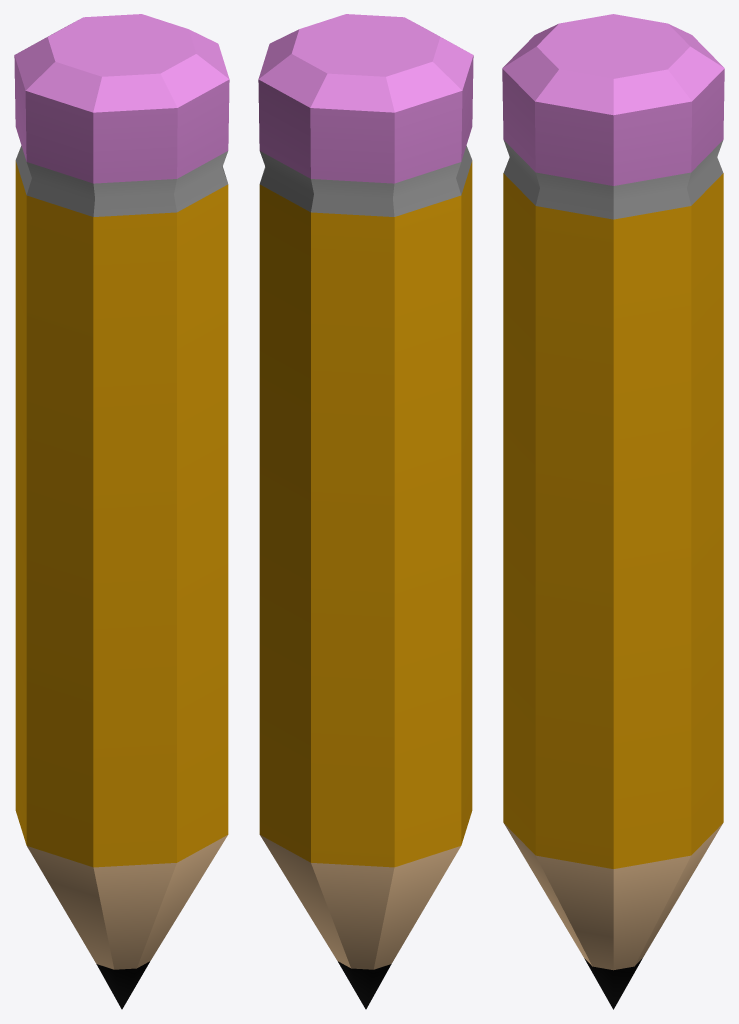
The model's file is lapiz.fbx.
3 renders of one model, left to right at view 1: azimuth 30°, elevation 25°; view 2: azimuth 150°, elevation 25°; view 3: azimuth 270°, elevation 25°, orthographic.
Visible parts, largest first — view 1: pCylinder1; view 2: pCylinder1; view 3: pCylinder1.
Boxes of the visible parts, <box> form: pCylinder1: <box>14,14,229,1009</box>; pCylinder1: <box>258,14,473,1009</box>; pCylinder1: <box>502,14,724,1009</box>.
Bounding box in the file's own units: 1.33 × 6.33 × 1.33.
